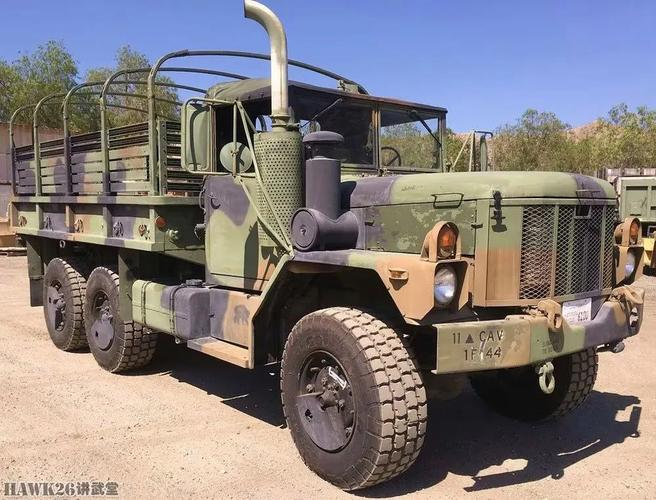卡车: (5, 43, 656, 496)
